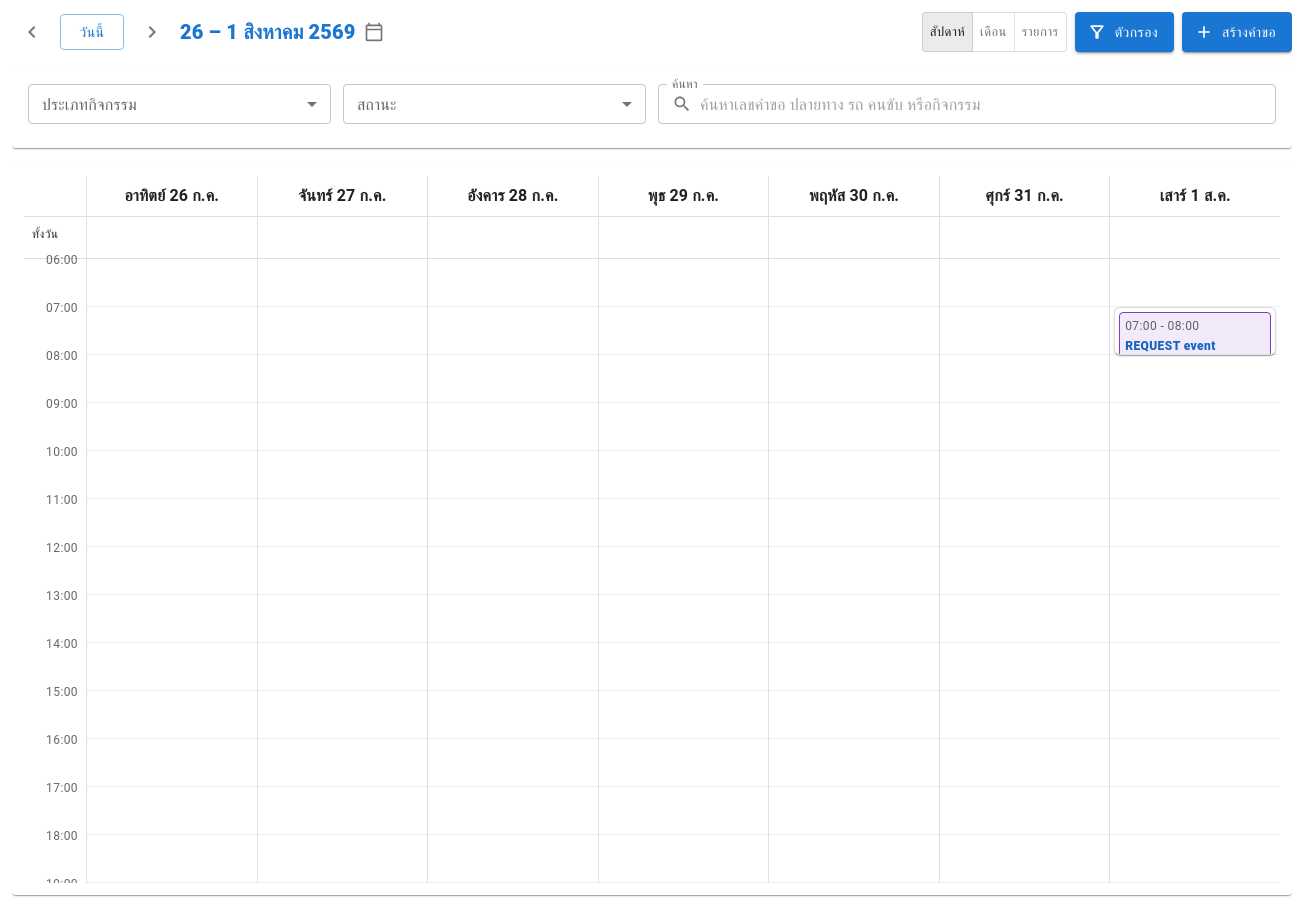
Test case: FleetCalendarPage › previews who is travelling where on hover in week view
Hover over the button "07:00 - 08:00 REQUEST event" at [1195, 336], box x1=1119 y1=312 x2=1271 y2=361
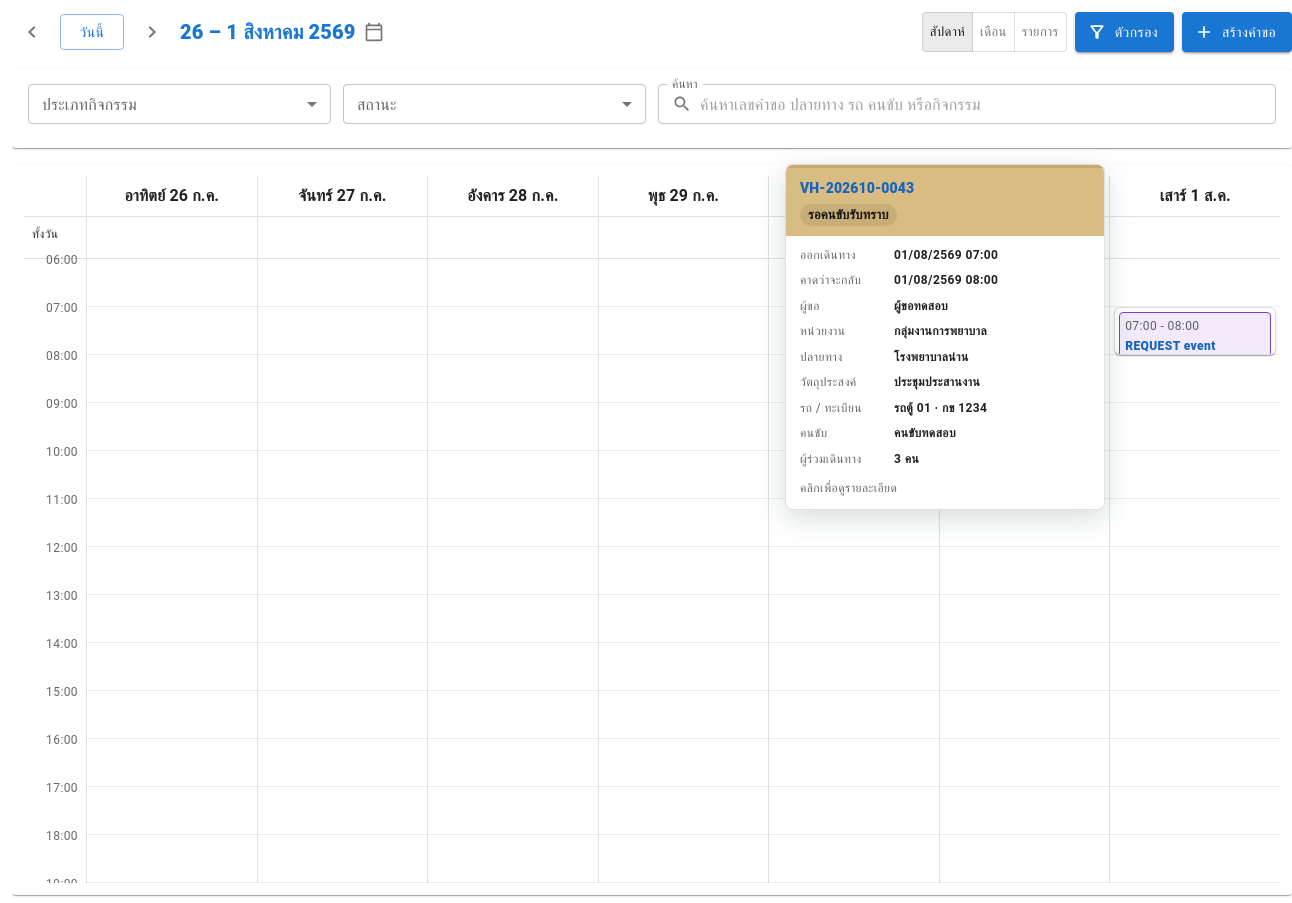
Now the heading "VH-202610-0043" is shown, box x1=800 y1=180 x2=914 y2=196
Now the text "ผู้ขอทดสอบ" is shown, box x1=894 y1=299 x2=948 y2=313
Now the text "กลุ่มงานการพยาบาล" is shown, box x1=894 y1=324 x2=987 y2=338
Press Escape
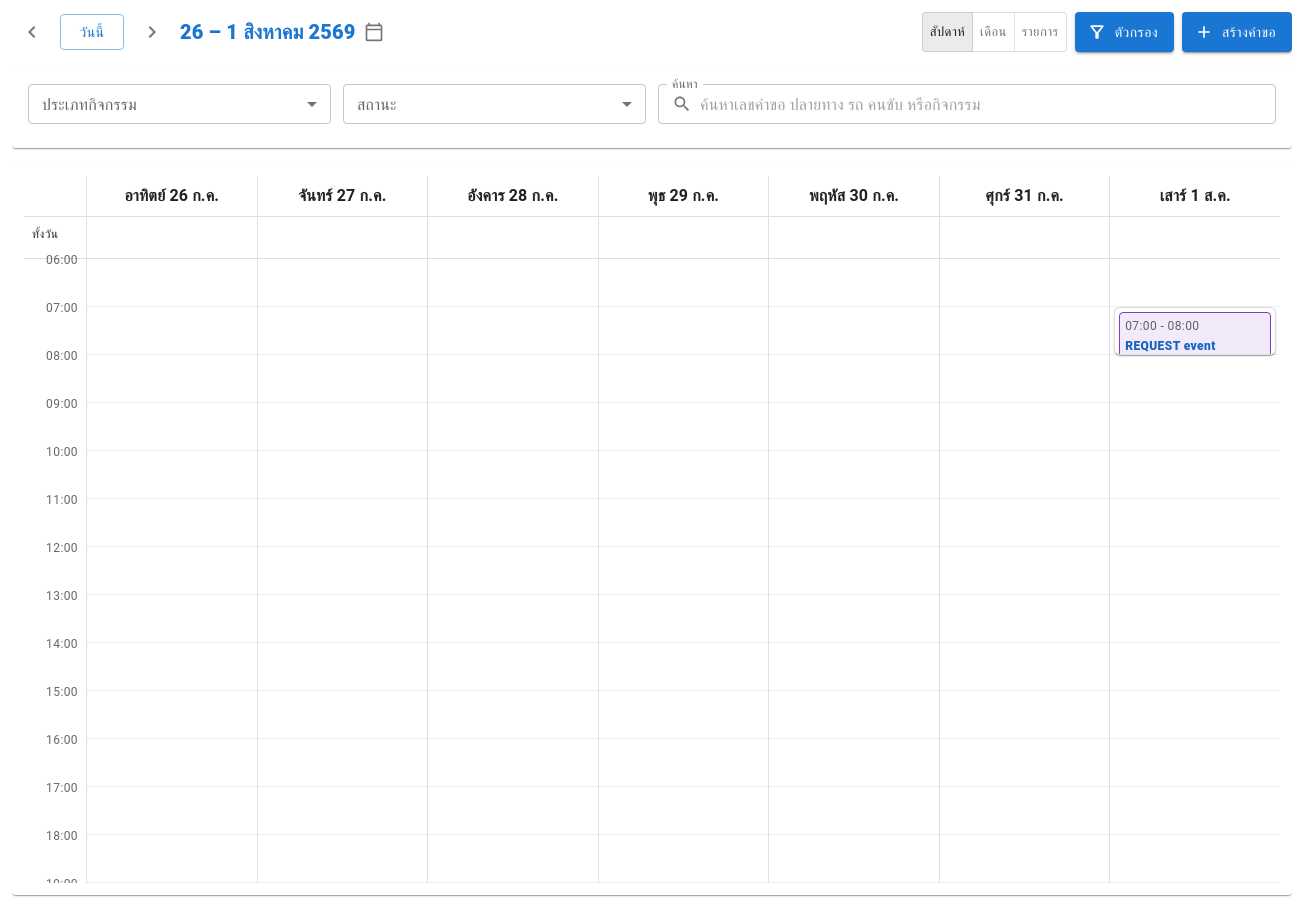
Now the tooltip is gone
Click the button "07:00 - 08:00 REQUEST event" at [1195, 336], box x1=1119 y1=312 x2=1271 y2=361
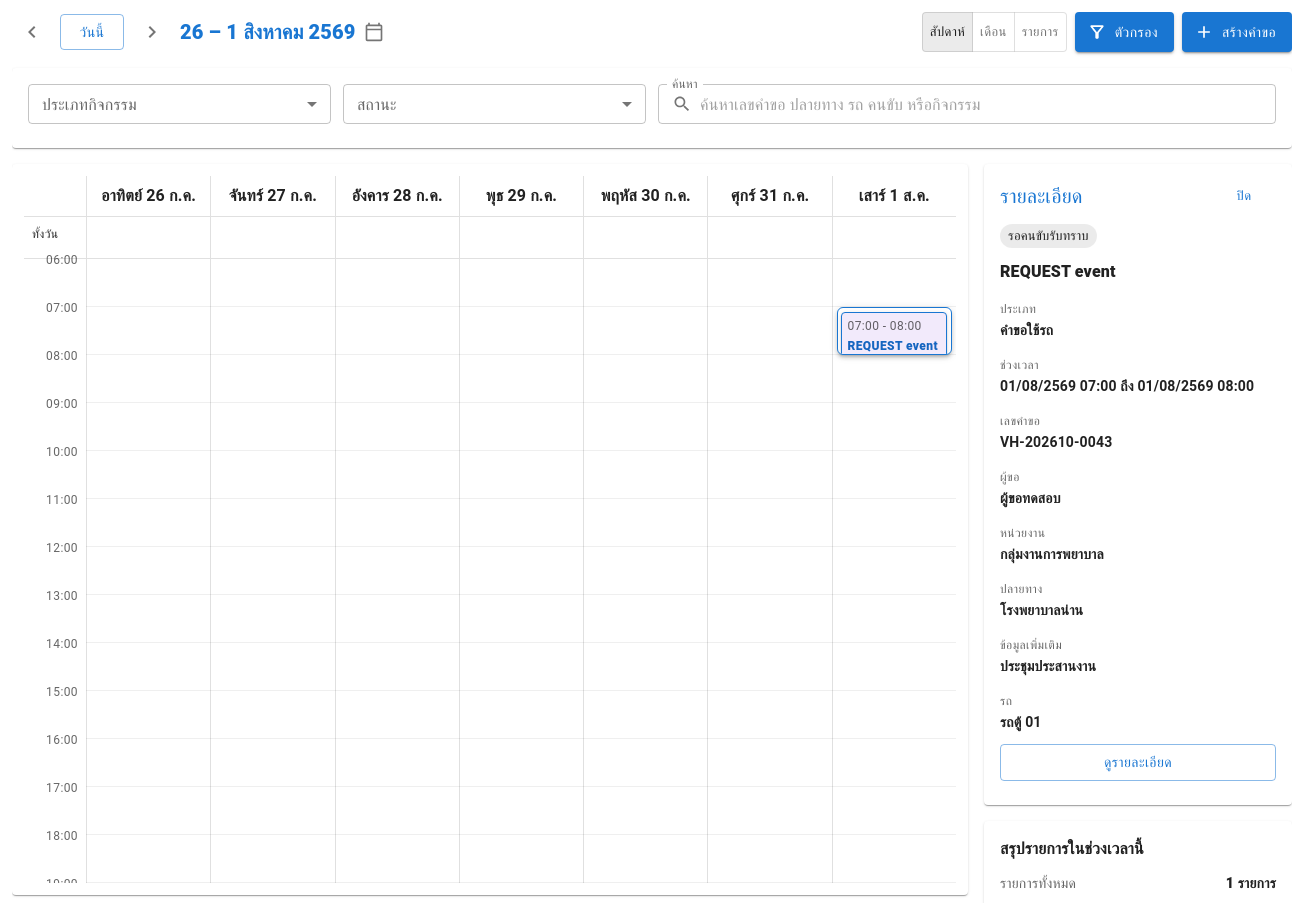
Now the heading "รายละเอียด" is shown, box x1=1000 y1=180 x2=1082 y2=212
